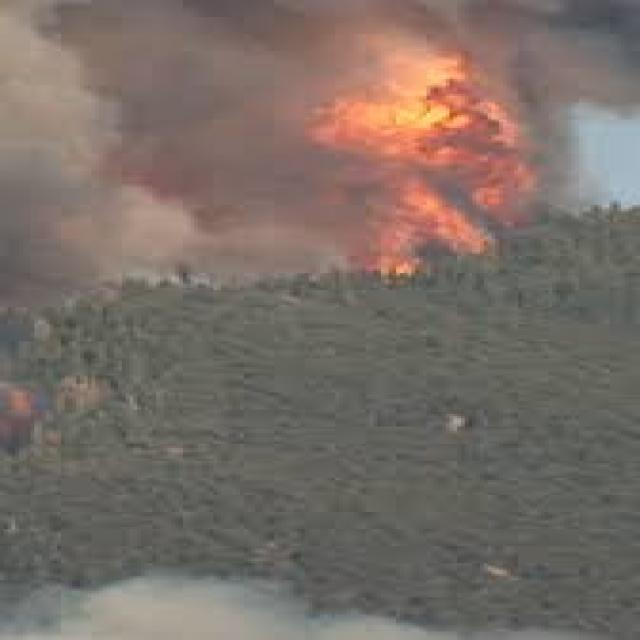Fire: (290, 17, 569, 300)
Smoke: (0, 0, 640, 292)
